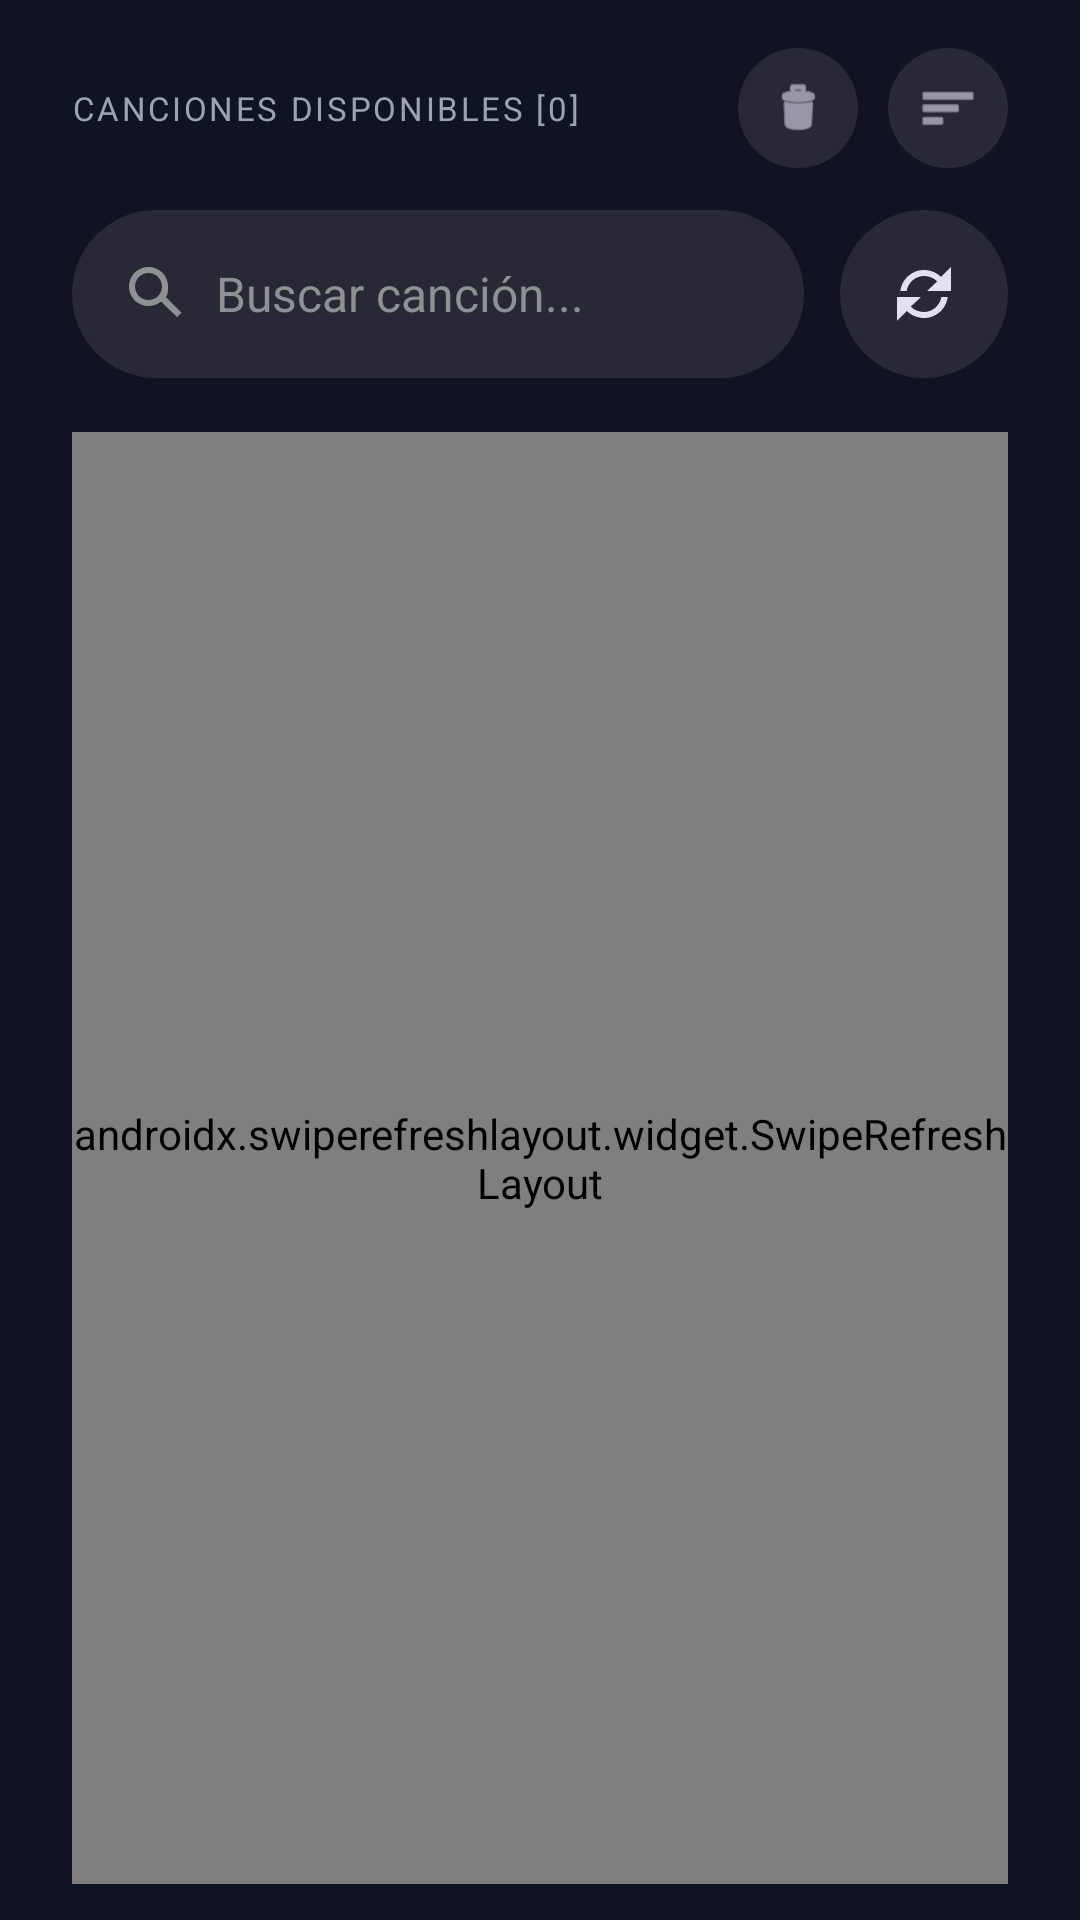

Named icons in this screenshot (1080 × 1920) and their centers, (x,y):
Ordenar canciones: (948,108)
Recargar canciones: (924,294)
